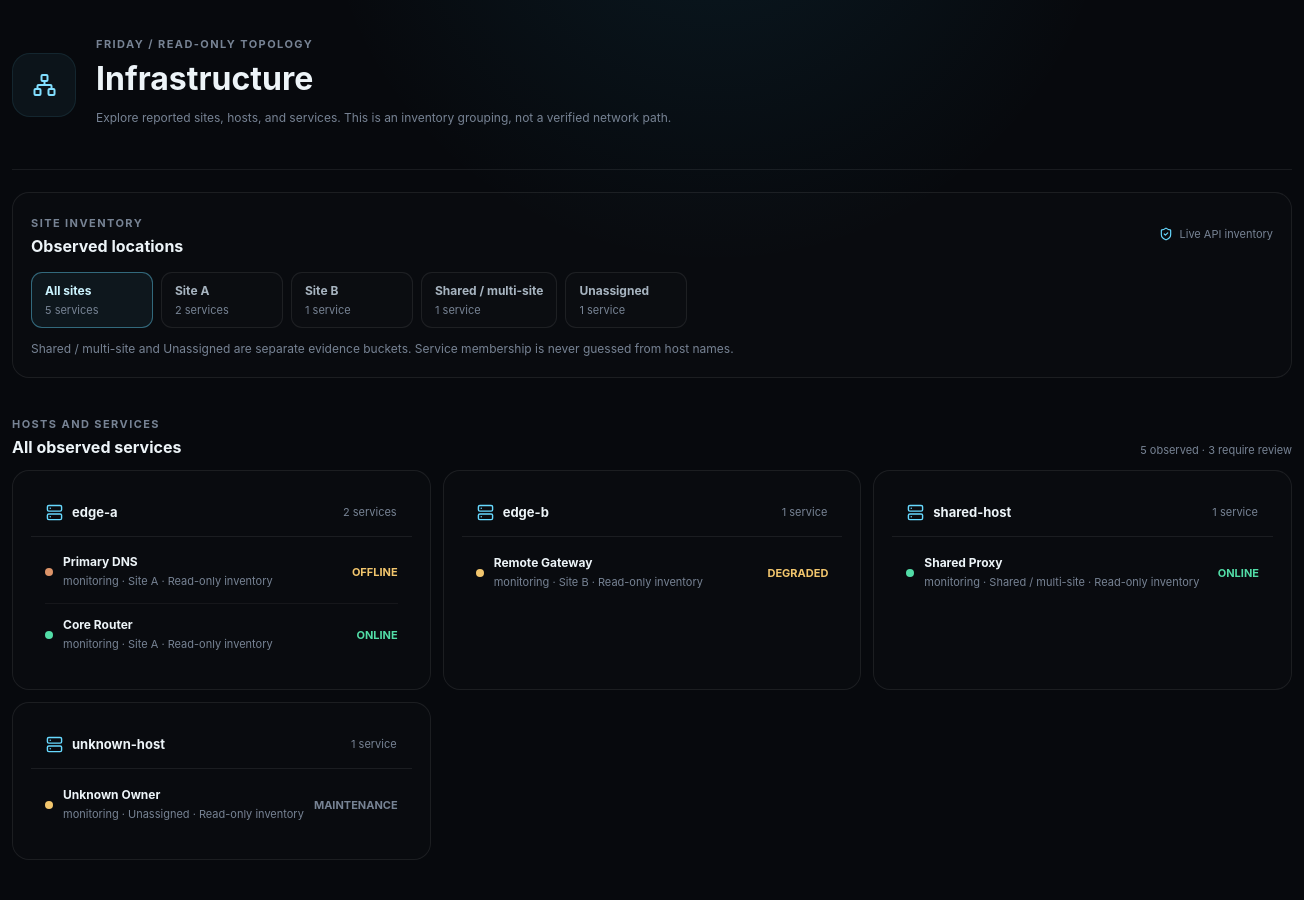
Test: InfrastructureWorkspace site topology › keeps unassigned services explicit and derives sites from service evidence when site metadata is absent
Expected: the button "Site A 2 services" is shown, x1=161 y1=272 x2=283 y2=328
Click the button "Unassigned 1 service". click: (626, 300)
box: x1=566 y1=272 x2=688 y2=328
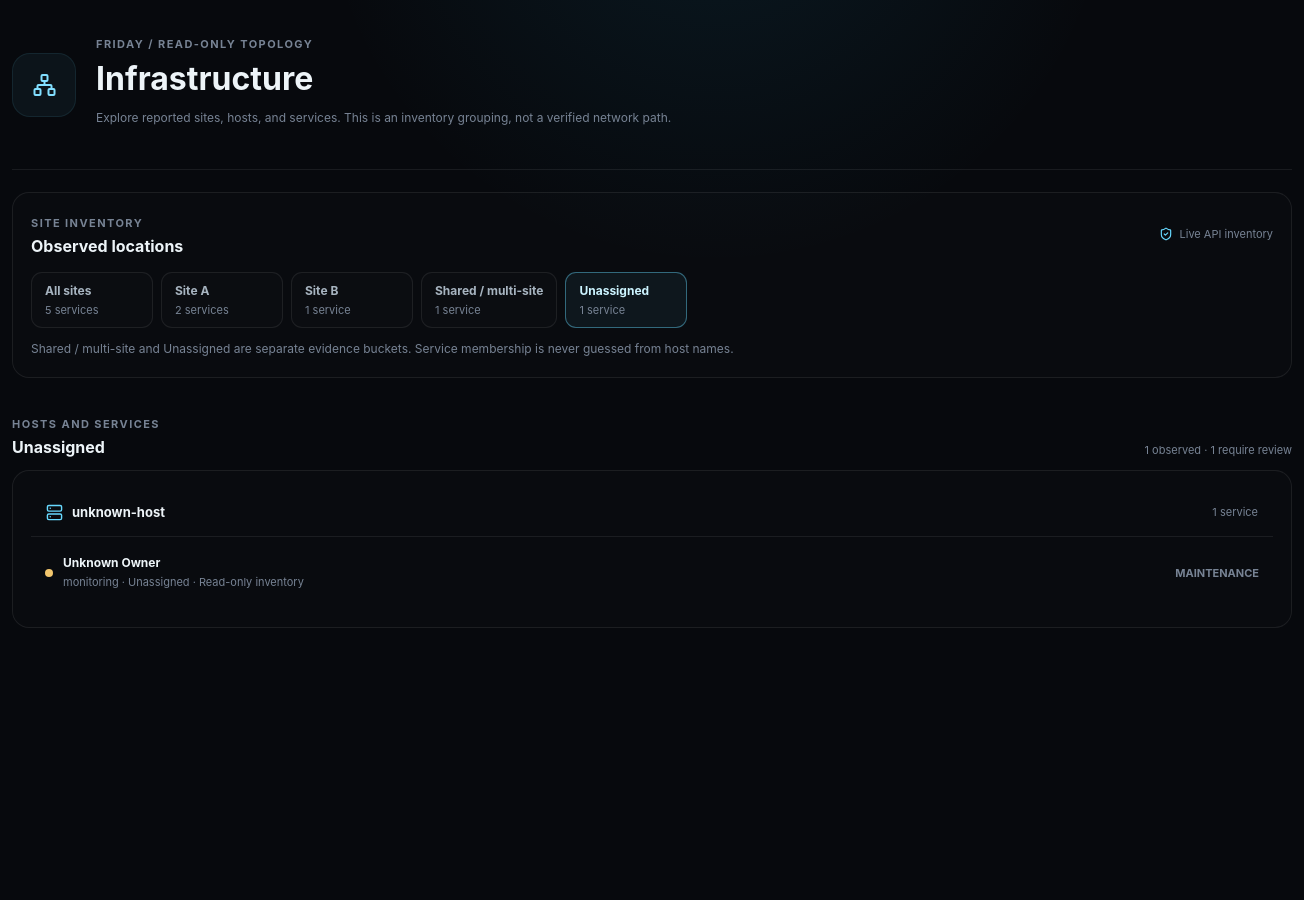
Expected: the text "Unknown Owner" is shown, x1=63 y1=555 x2=160 y2=570
Expected: the text "Shared Proxy" is gone
